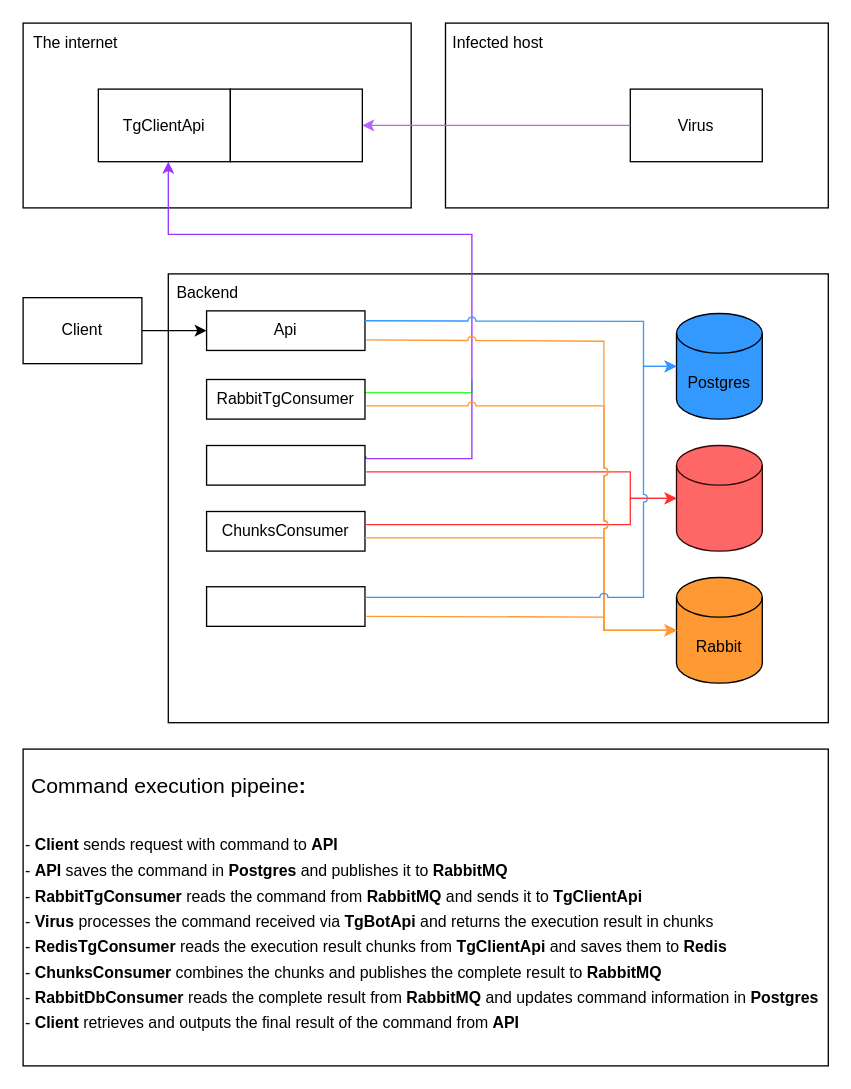
The diagram is 851 pixels wide and 1089 high, and some of its shapes have lost their labels. Each missing label, with the centre of its shape:
RabbitDbConsumer: the point at 285,605
Redis: the point at 718,497
RedisTgConsumer: the point at 285,464
TgBotApi: the point at 295,125
